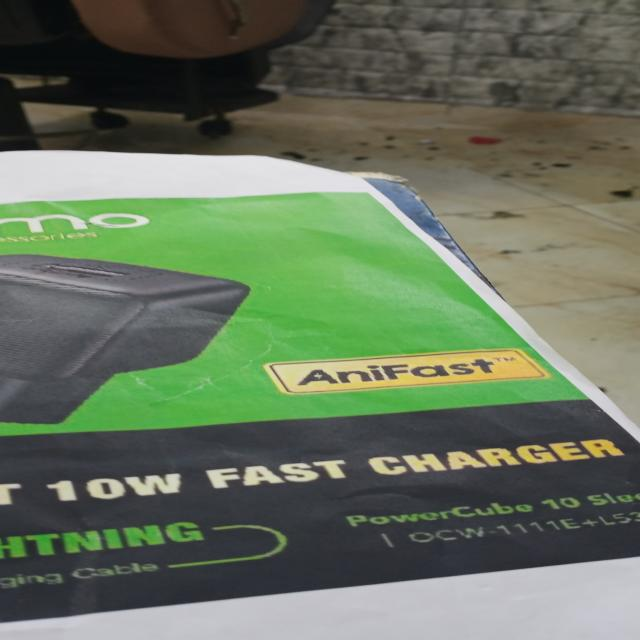PowerCube 10 Sleek OCW-1111ExL53: (337, 486, 640, 559)
